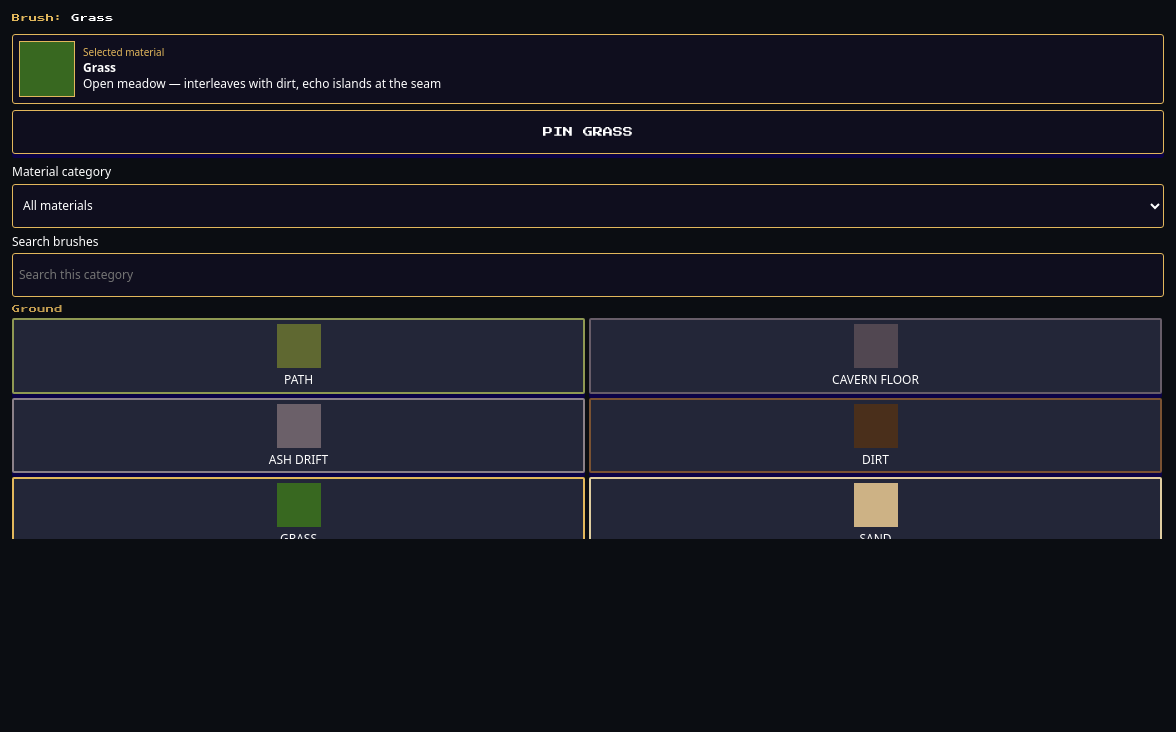
Scenario: MapEditBrushDeck › drops the hover card when a search filters the hovered tile away
This screenshot has width=1176, height=732.
Hover over the button titled "Dirt": x=876, y=436 [589,398,1162,473]
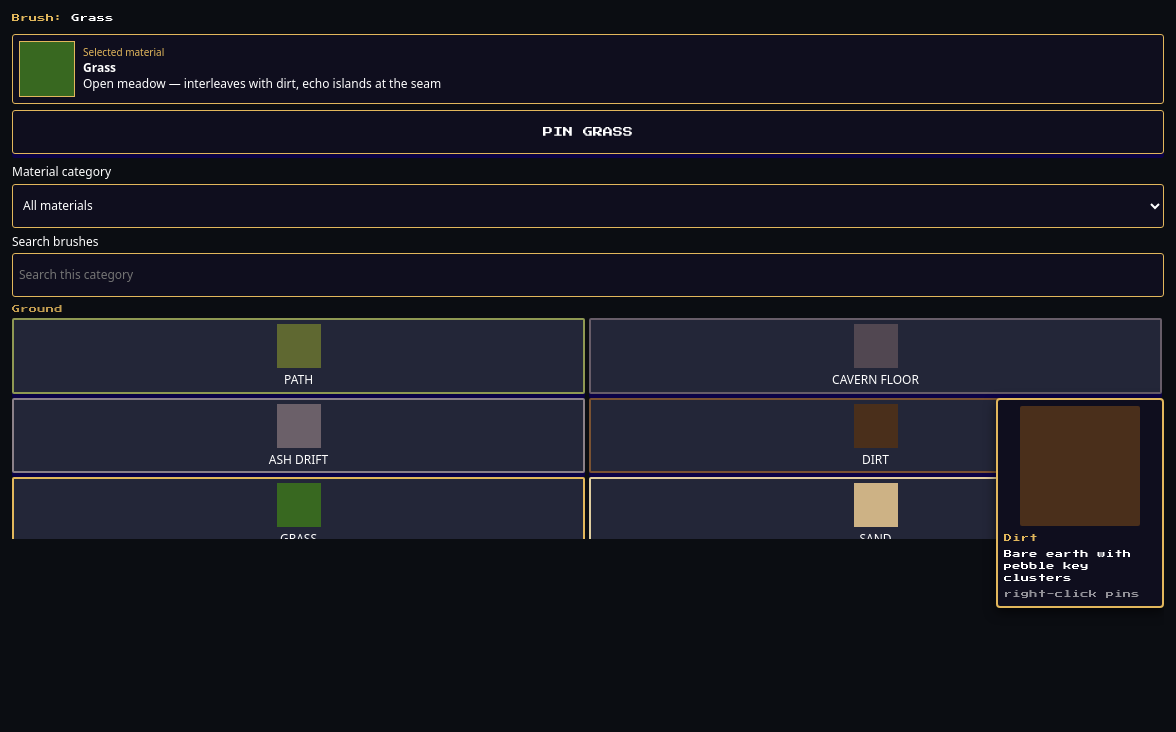
Expected: the text "Bare earth with pebble key clusters" is shown, [1004,550,1132,582]
In the search field labelled "Search brushes": x=588, y=275 [12,253,1164,297], type "oak"
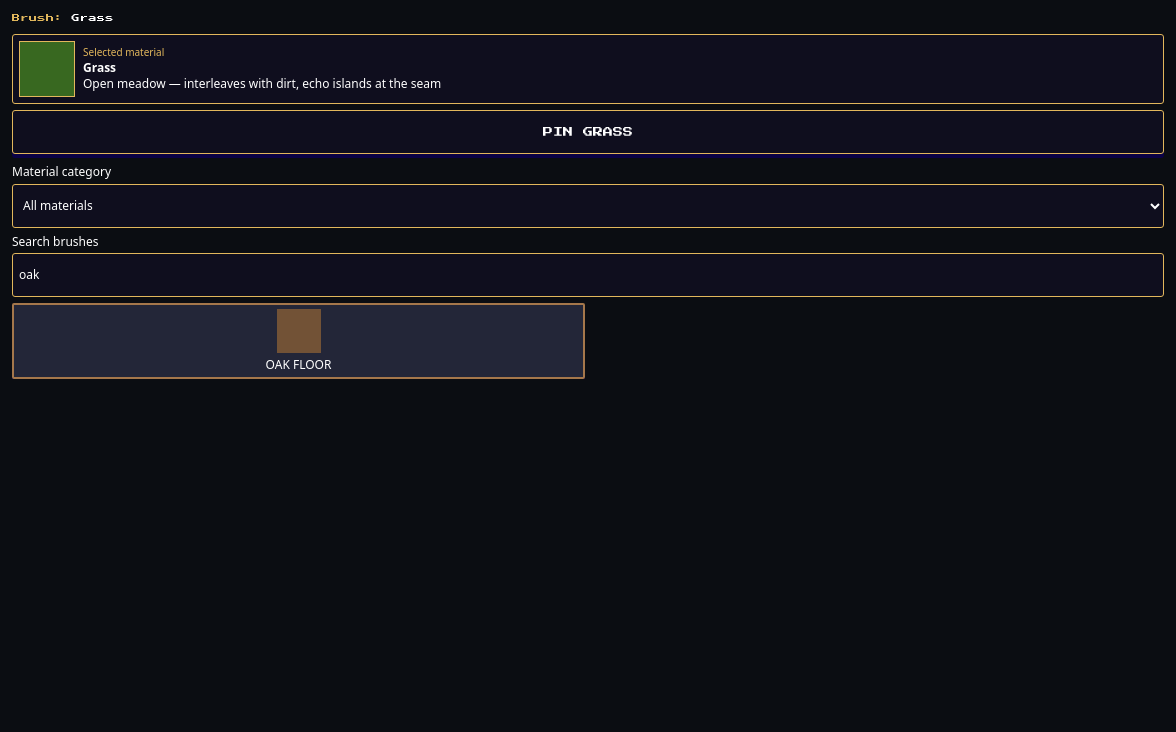
Expected: the text "Bare earth with pebble key clusters" is gone
